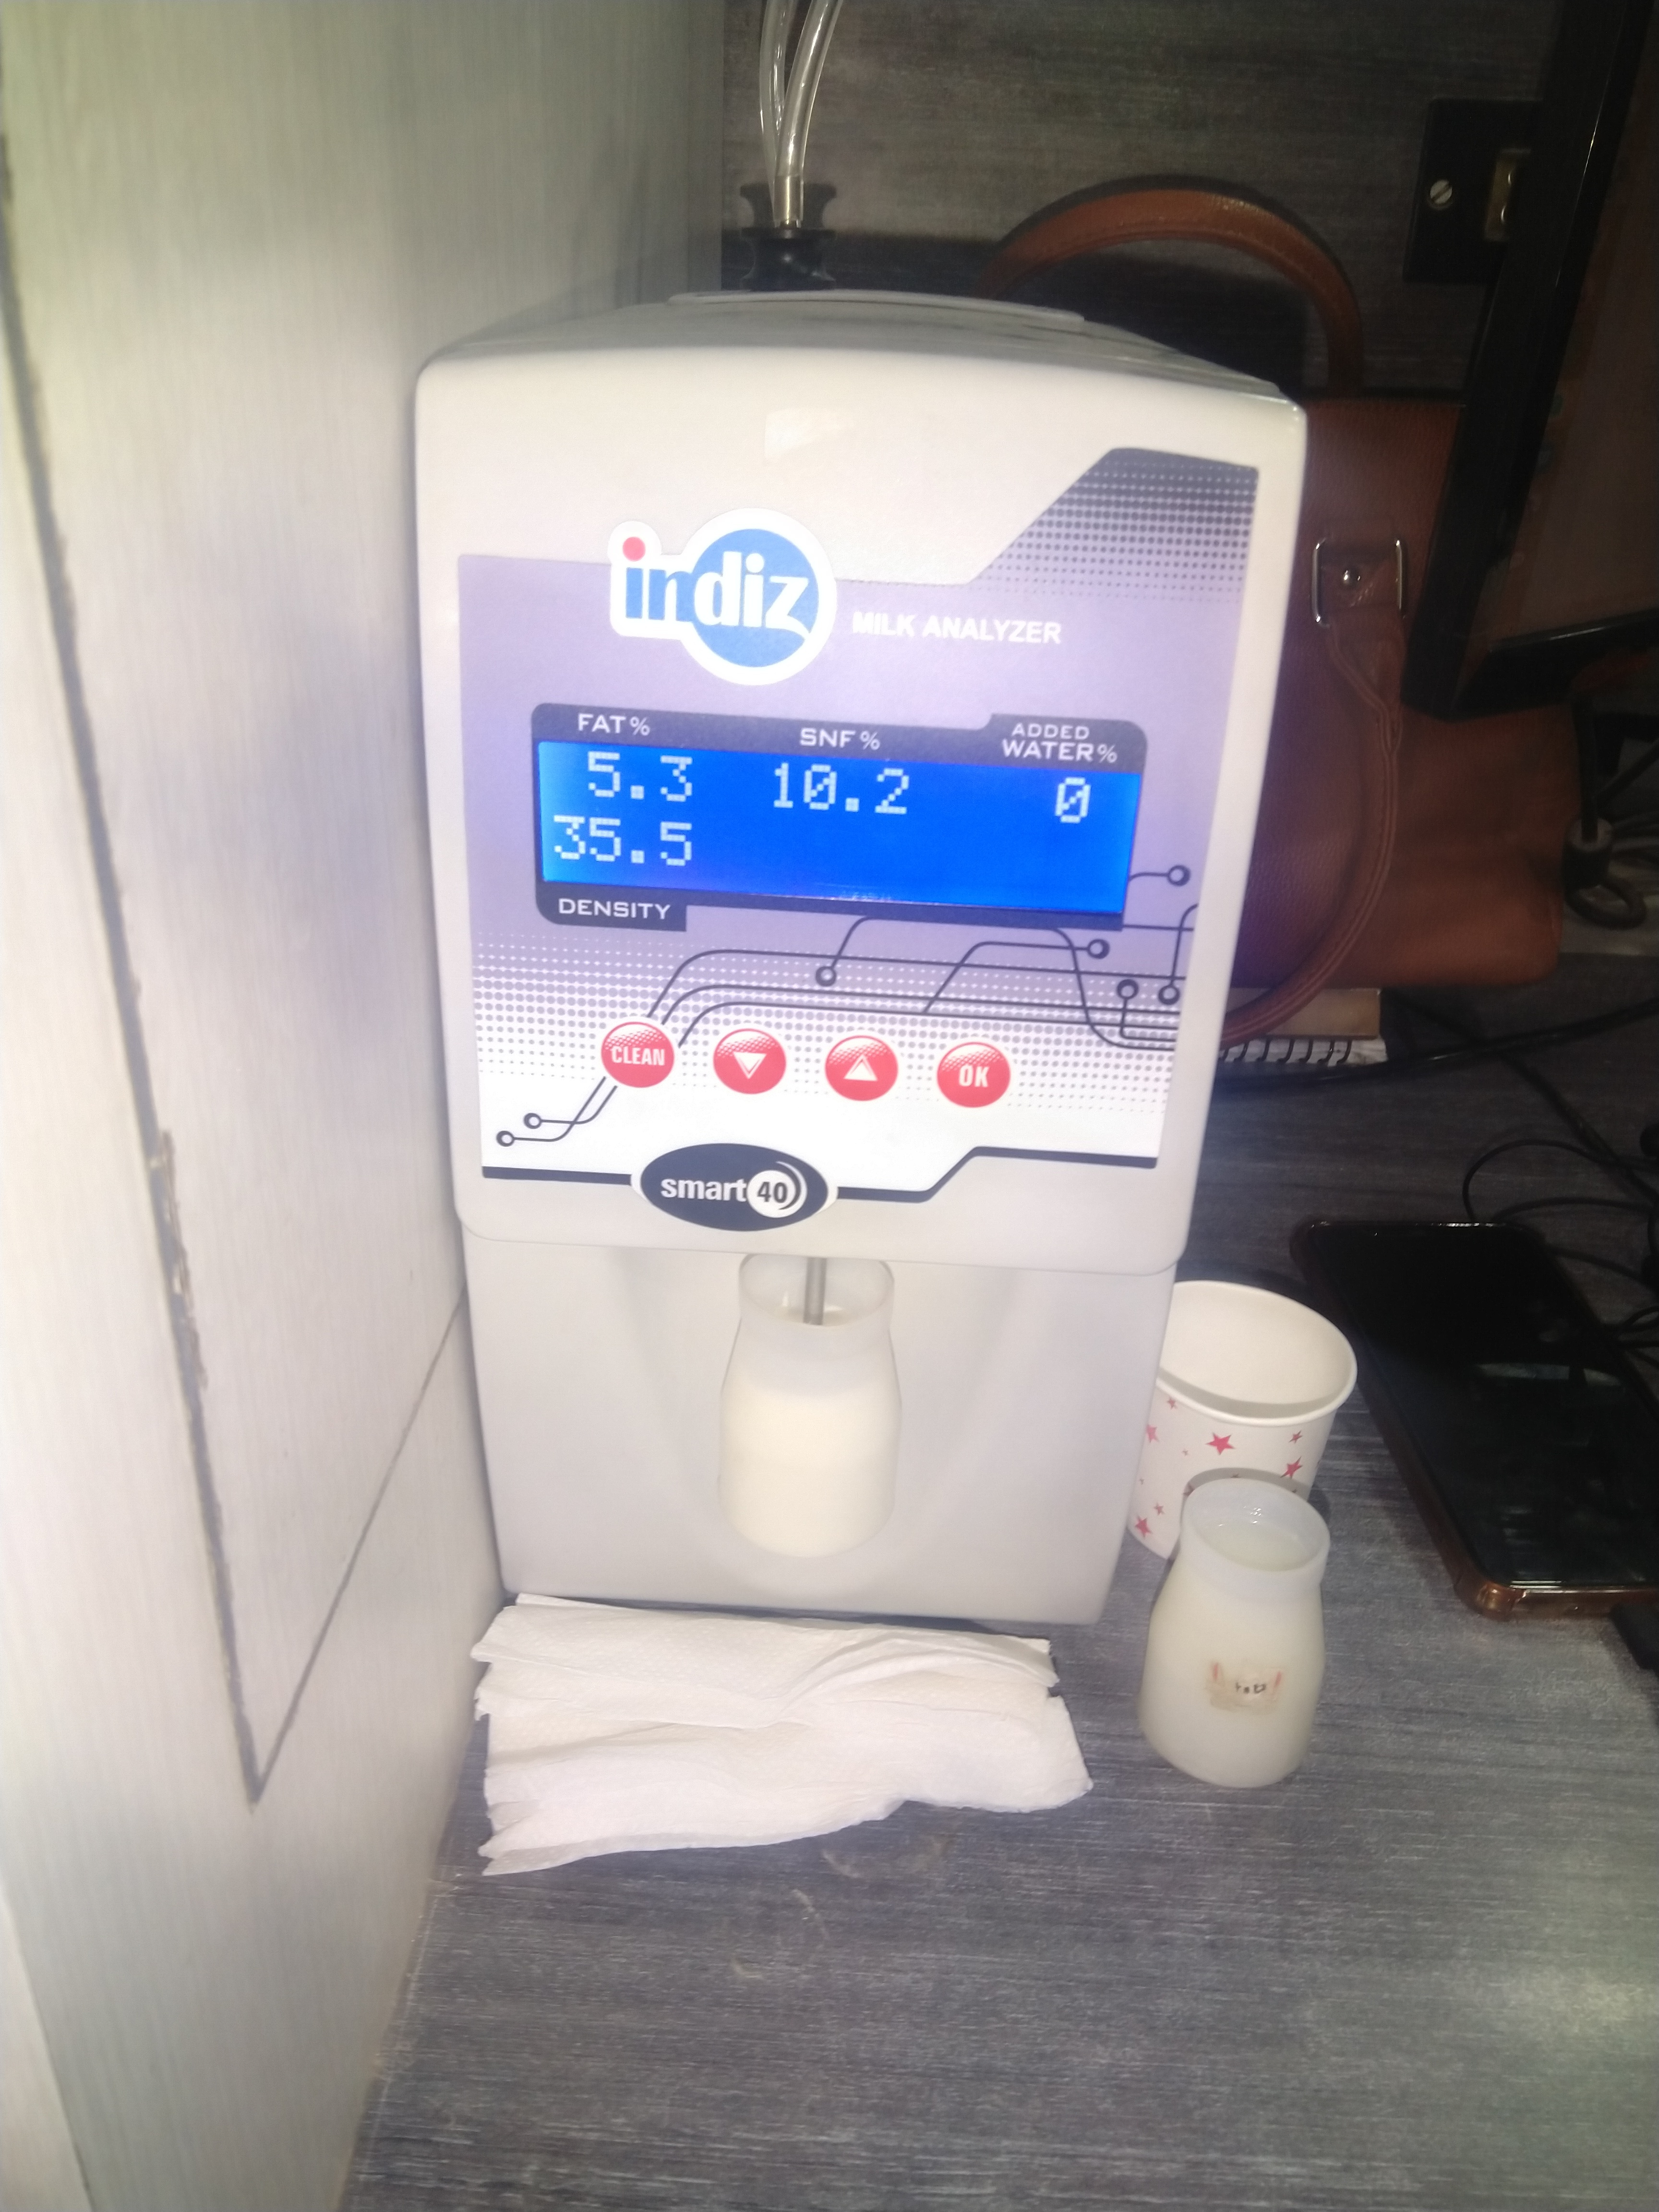lcd: (537, 742, 1140, 900)
